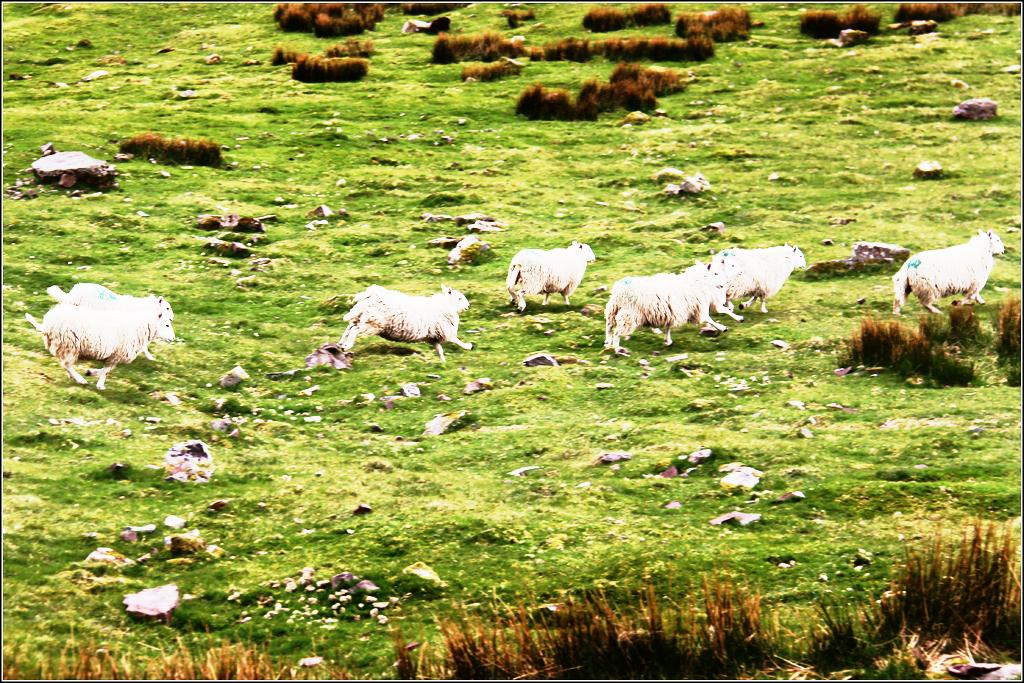Sheep: (330, 279, 480, 368), (30, 300, 173, 388), (600, 262, 725, 350), (891, 230, 1009, 317), (711, 242, 810, 316), (658, 250, 751, 326), (501, 238, 591, 314), (47, 283, 169, 318)
